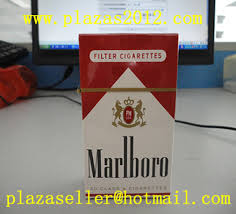marlboro: (81, 35, 174, 196)
